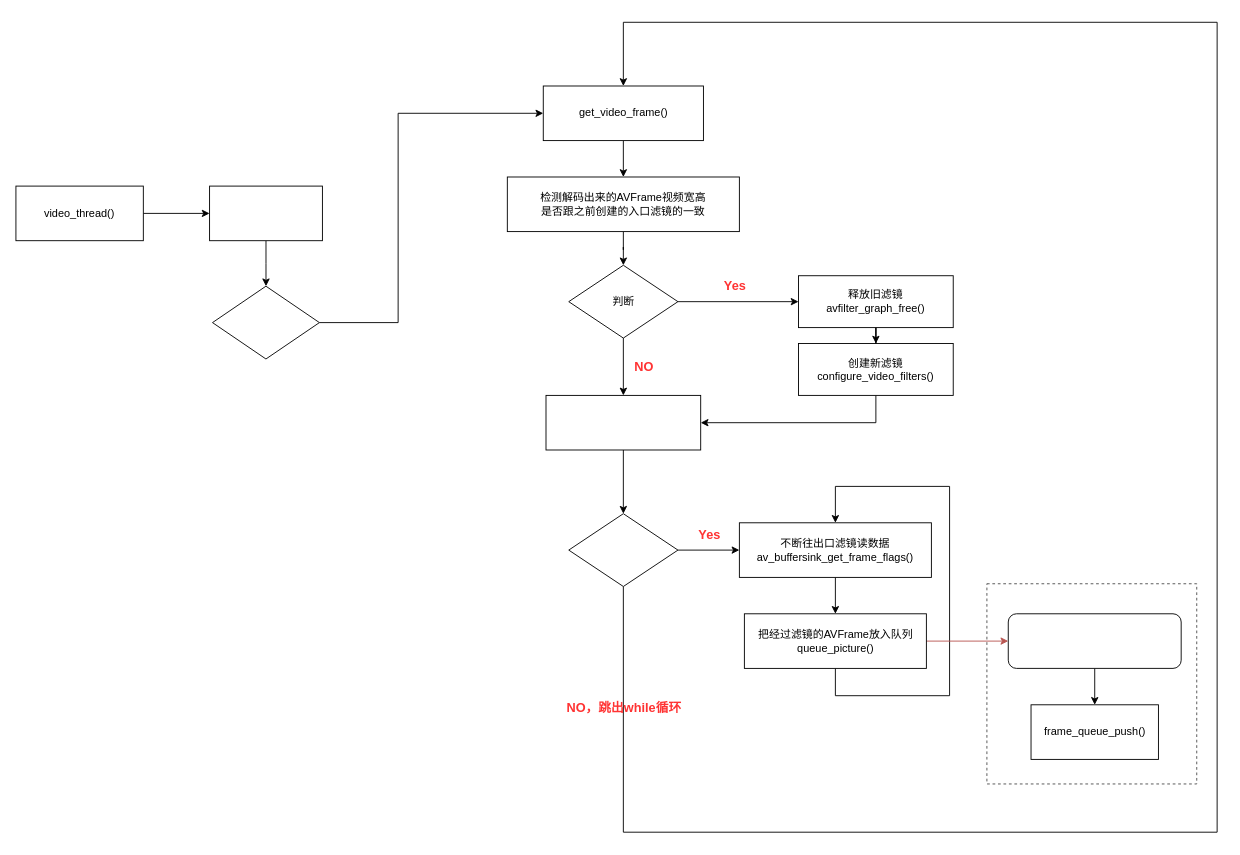
Some shapes in this 1240 by 855 pixel diagram are drawn without their labels. The centre of each missing label's shape, as x and y in pixels:
"av_frame_alloc()" belongs at (265,213).
"for (;;) {...}" belongs at (265,322).
"while (ret >= 0)" belongs at (623,549).
"往入口滤镜丢数据 av_buffersrc_add_frame()" belongs at (623,422).
"等待队列FrameQueue可写 frame_queue_peek_writable()" belongs at (1094,640).
